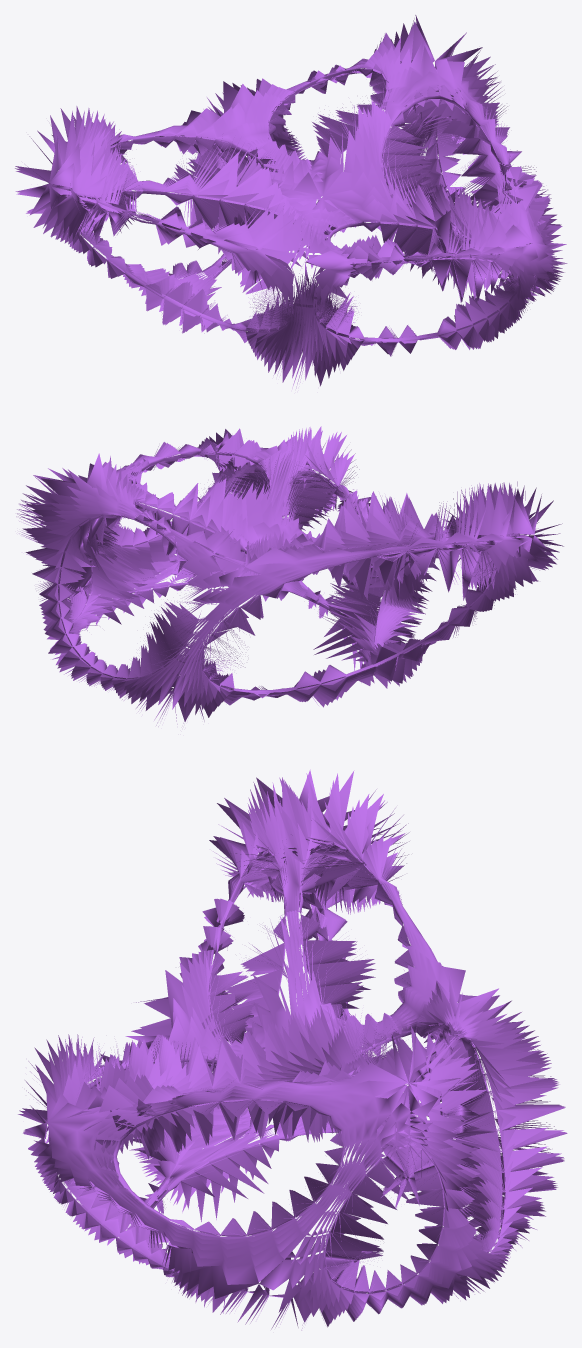
The model's file is AID.gltf.
3 renders of one model, top to bottom at view 1: azimuth 30°, elevation 25°; view 2: azimuth 150°, elevation 25°; view 3: azimuth 270°, elevation 25°, orthographic. The views are drawn at different scales.
Visible parts, largest first — view 1: Node; view 2: Node; view 3: Node.
Part boxes in pixels (<box>): Node: <box>15,15,567,388</box>; Node: <box>16,426,563,726</box>; Node: <box>18,769,567,1330</box>.
Size of the model in its own units: 37.16 by 19.16 by 27.98.
